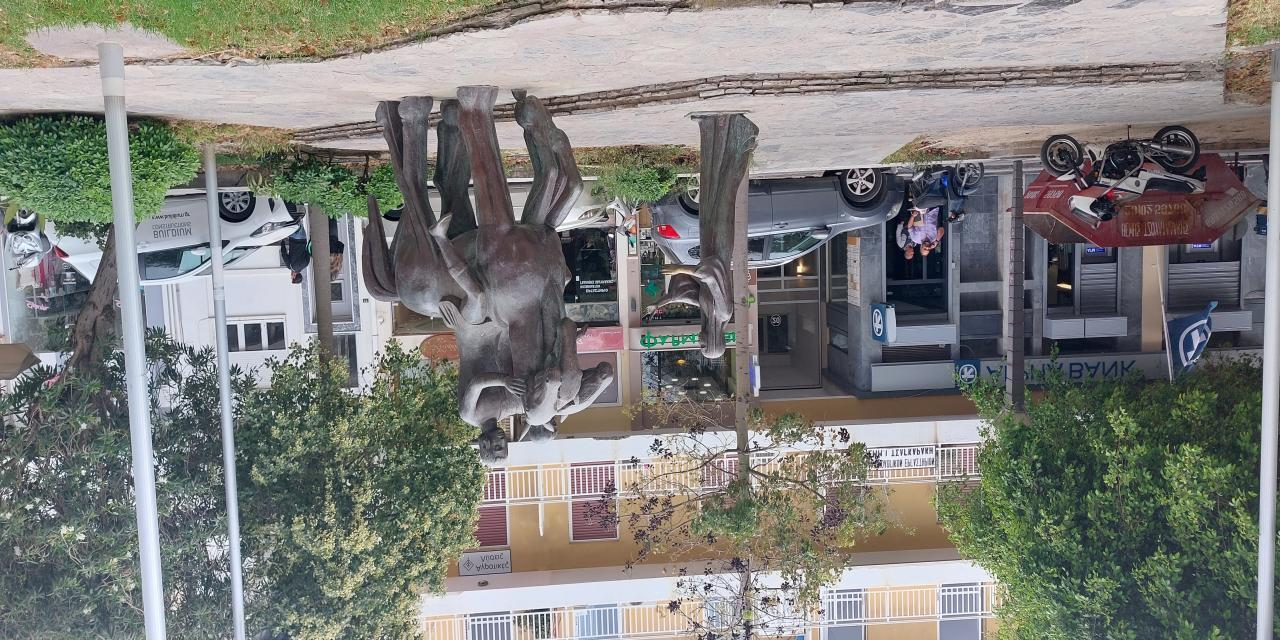Aretousa: (362, 85, 760, 467)
